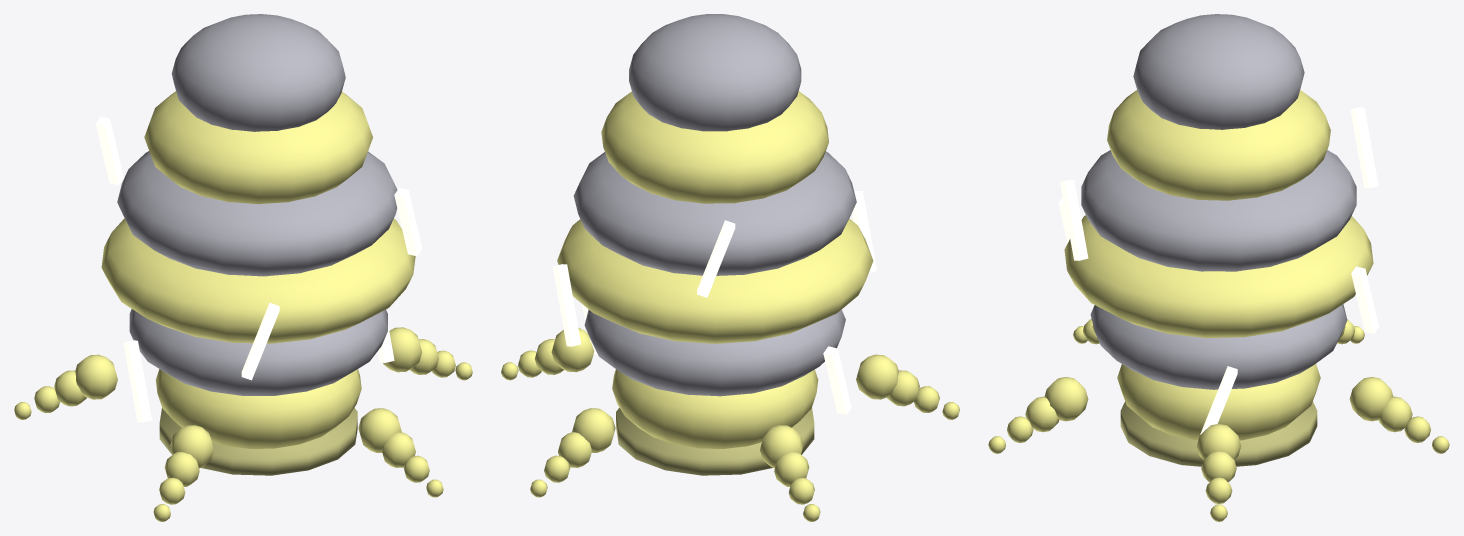
Rendered from egg_storm_02.glb.
3 views of the same model, side by side, from view 1: azimuth 30°, elevation 25°; view 2: azimuth 150°, elevation 25°; view 3: azimuth 270°, elevation 25° (orthographic).
Visible parts, largest first — view 1: ball; view 2: ball; view 3: ball.
Boxes of the visible parts, x1=… form: ball: x1=14, y1=14, x2=472, y2=521; ball: x1=501, y1=14, x2=959, y2=521; ball: x1=988, y1=14, x2=1449, y2=521.
Bounding box in the file's own units: 0.9843 × 0.99 × 1.03.
